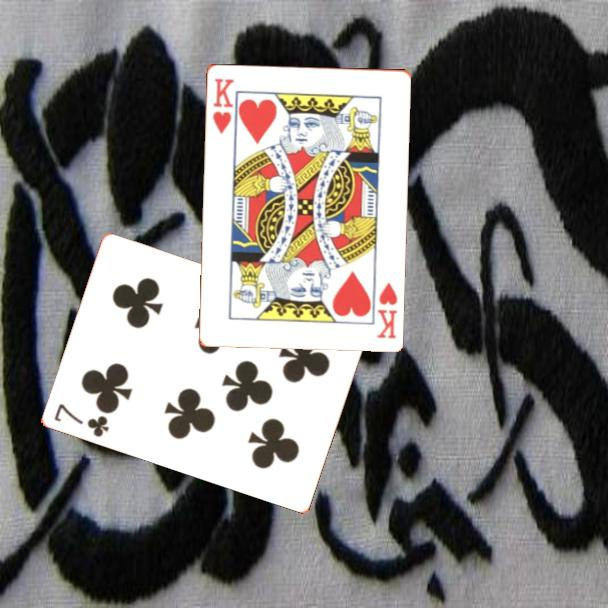c07: (51, 400, 112, 440)
h13: (209, 75, 236, 137), (373, 279, 400, 341)
